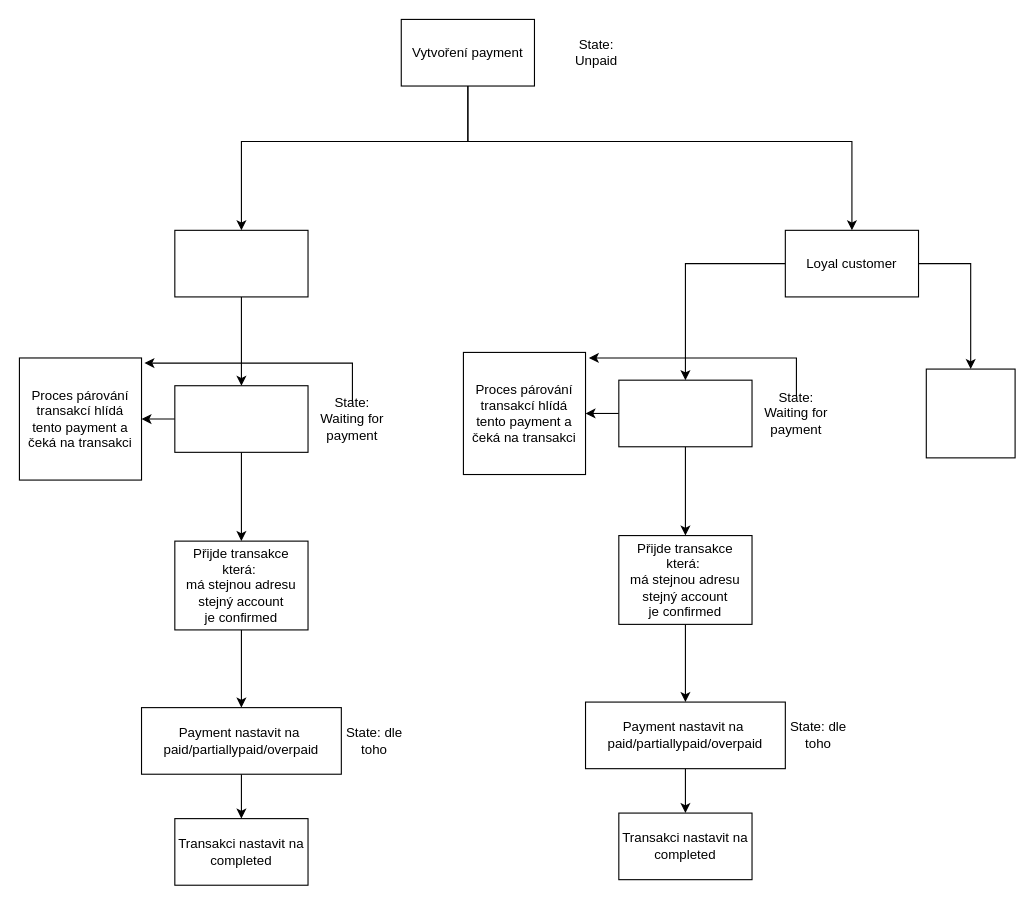
Image size: 1035x905. Some labels were removed from this diagram. Here are the shapes that lost their labels. From the top down, the centre of each, then its label:
point (241, 263): Normal customer
point (241, 418): One time address na účtu pro plebs
point (685, 413): One time address na jeho účtu
point (970, 413): zaplatit z kreditu
